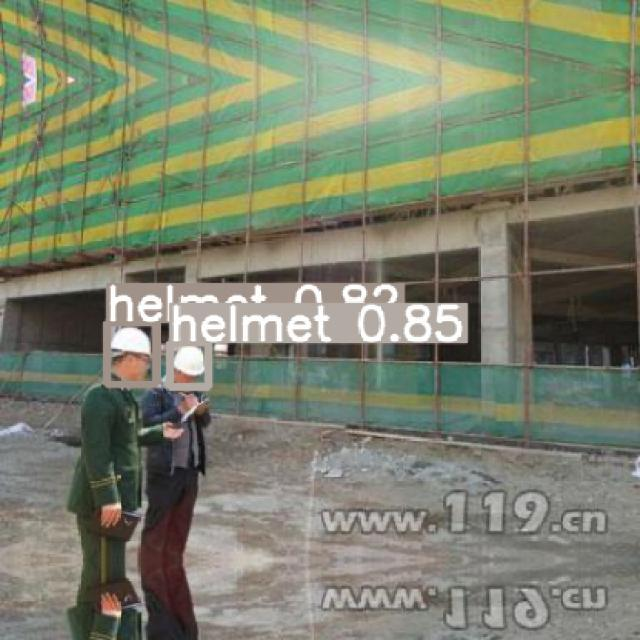Helmet: (109, 326, 151, 357), (172, 345, 205, 376)
